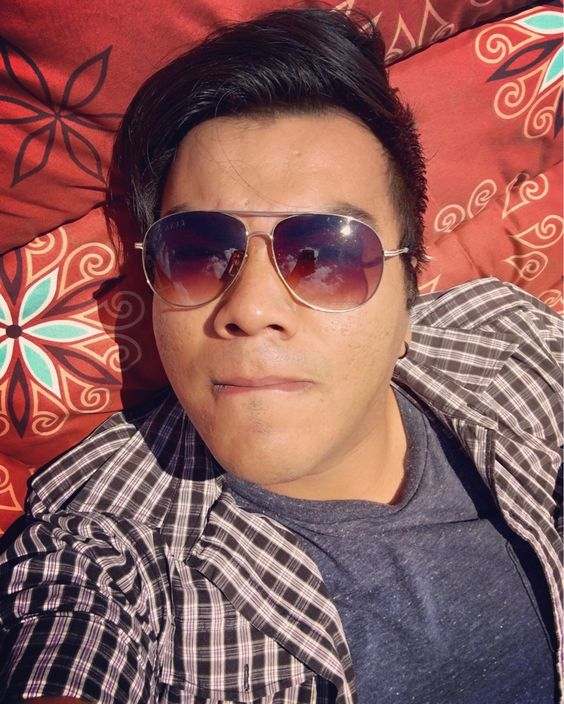sunglasses: (136, 218, 392, 310)
